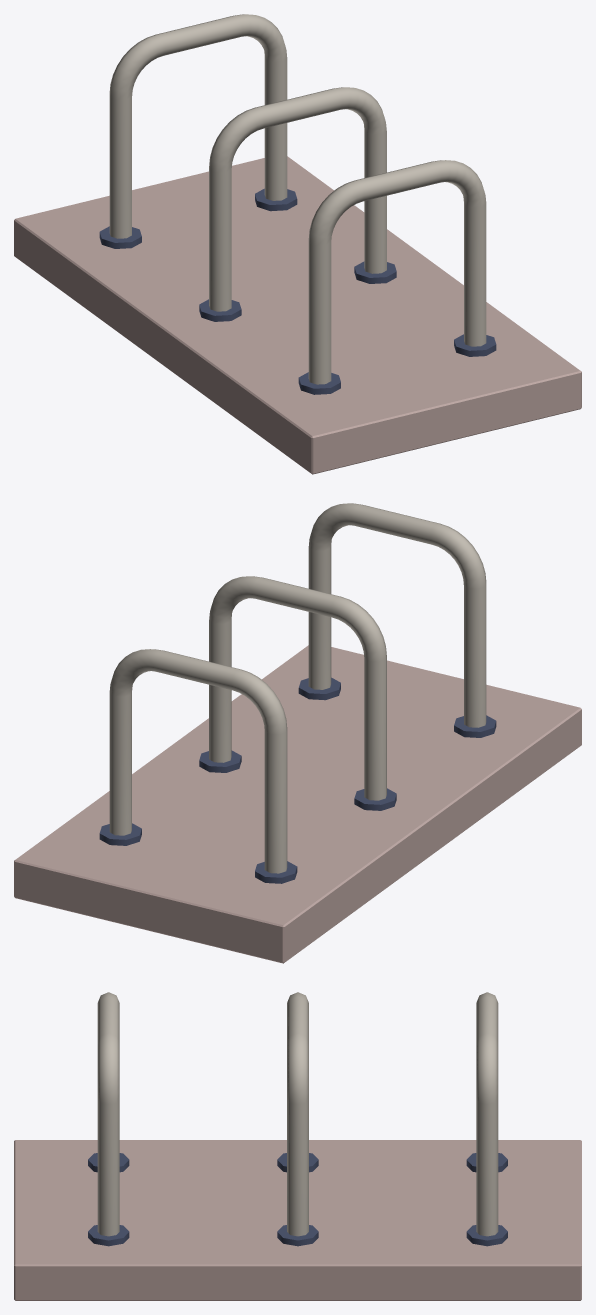
File: prop.bike-rack.lod1.glb
3 renders of one model, top to bottom at view 1: azimuth 30°, elevation 25°; view 2: azimuth 150°, elevation 25°; view 3: azimuth 270°, elevation 25°, orthographic. The views are drawn at different scales.
Parts seen in each view (by area): view 1: body, object 2; view 2: body, object 2; view 3: body, object 2.
Boxes of the visible parts, x1,y1,x2,y2 form: body: (14,156,581,474); object 2: (99,14,496,394); body: (14,645,581,963); object 2: (99,503,496,883); body: (14,1140,581,1300); object 2: (88,992,507,1246).
Bounding box in the file's own units: 1.26 × 1.04 × 2.4.
